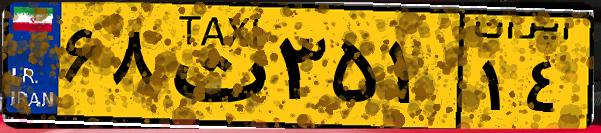1: (385, 28, 445, 110), (475, 38, 525, 113)
3: (270, 28, 330, 110)
4: (525, 38, 570, 115)
5: (330, 28, 385, 110)
6: (57, 26, 110, 100)
8: (110, 28, 158, 98)
ت: (158, 12, 270, 120)
